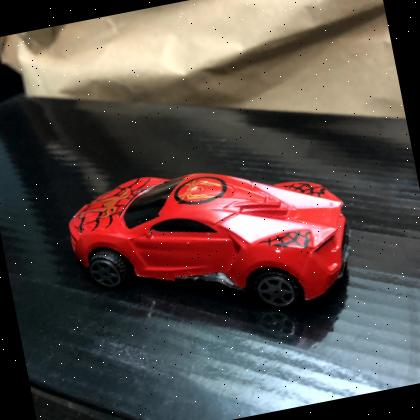Car: (68, 173, 350, 311)
